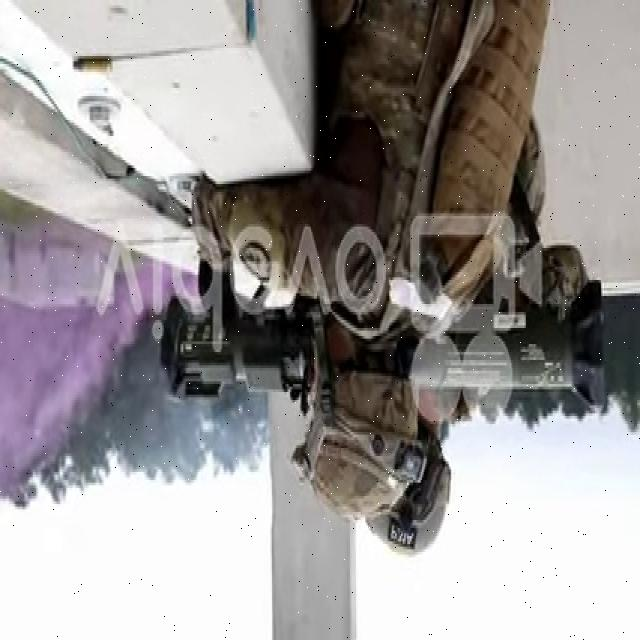bazooka: (158, 267, 617, 418)
